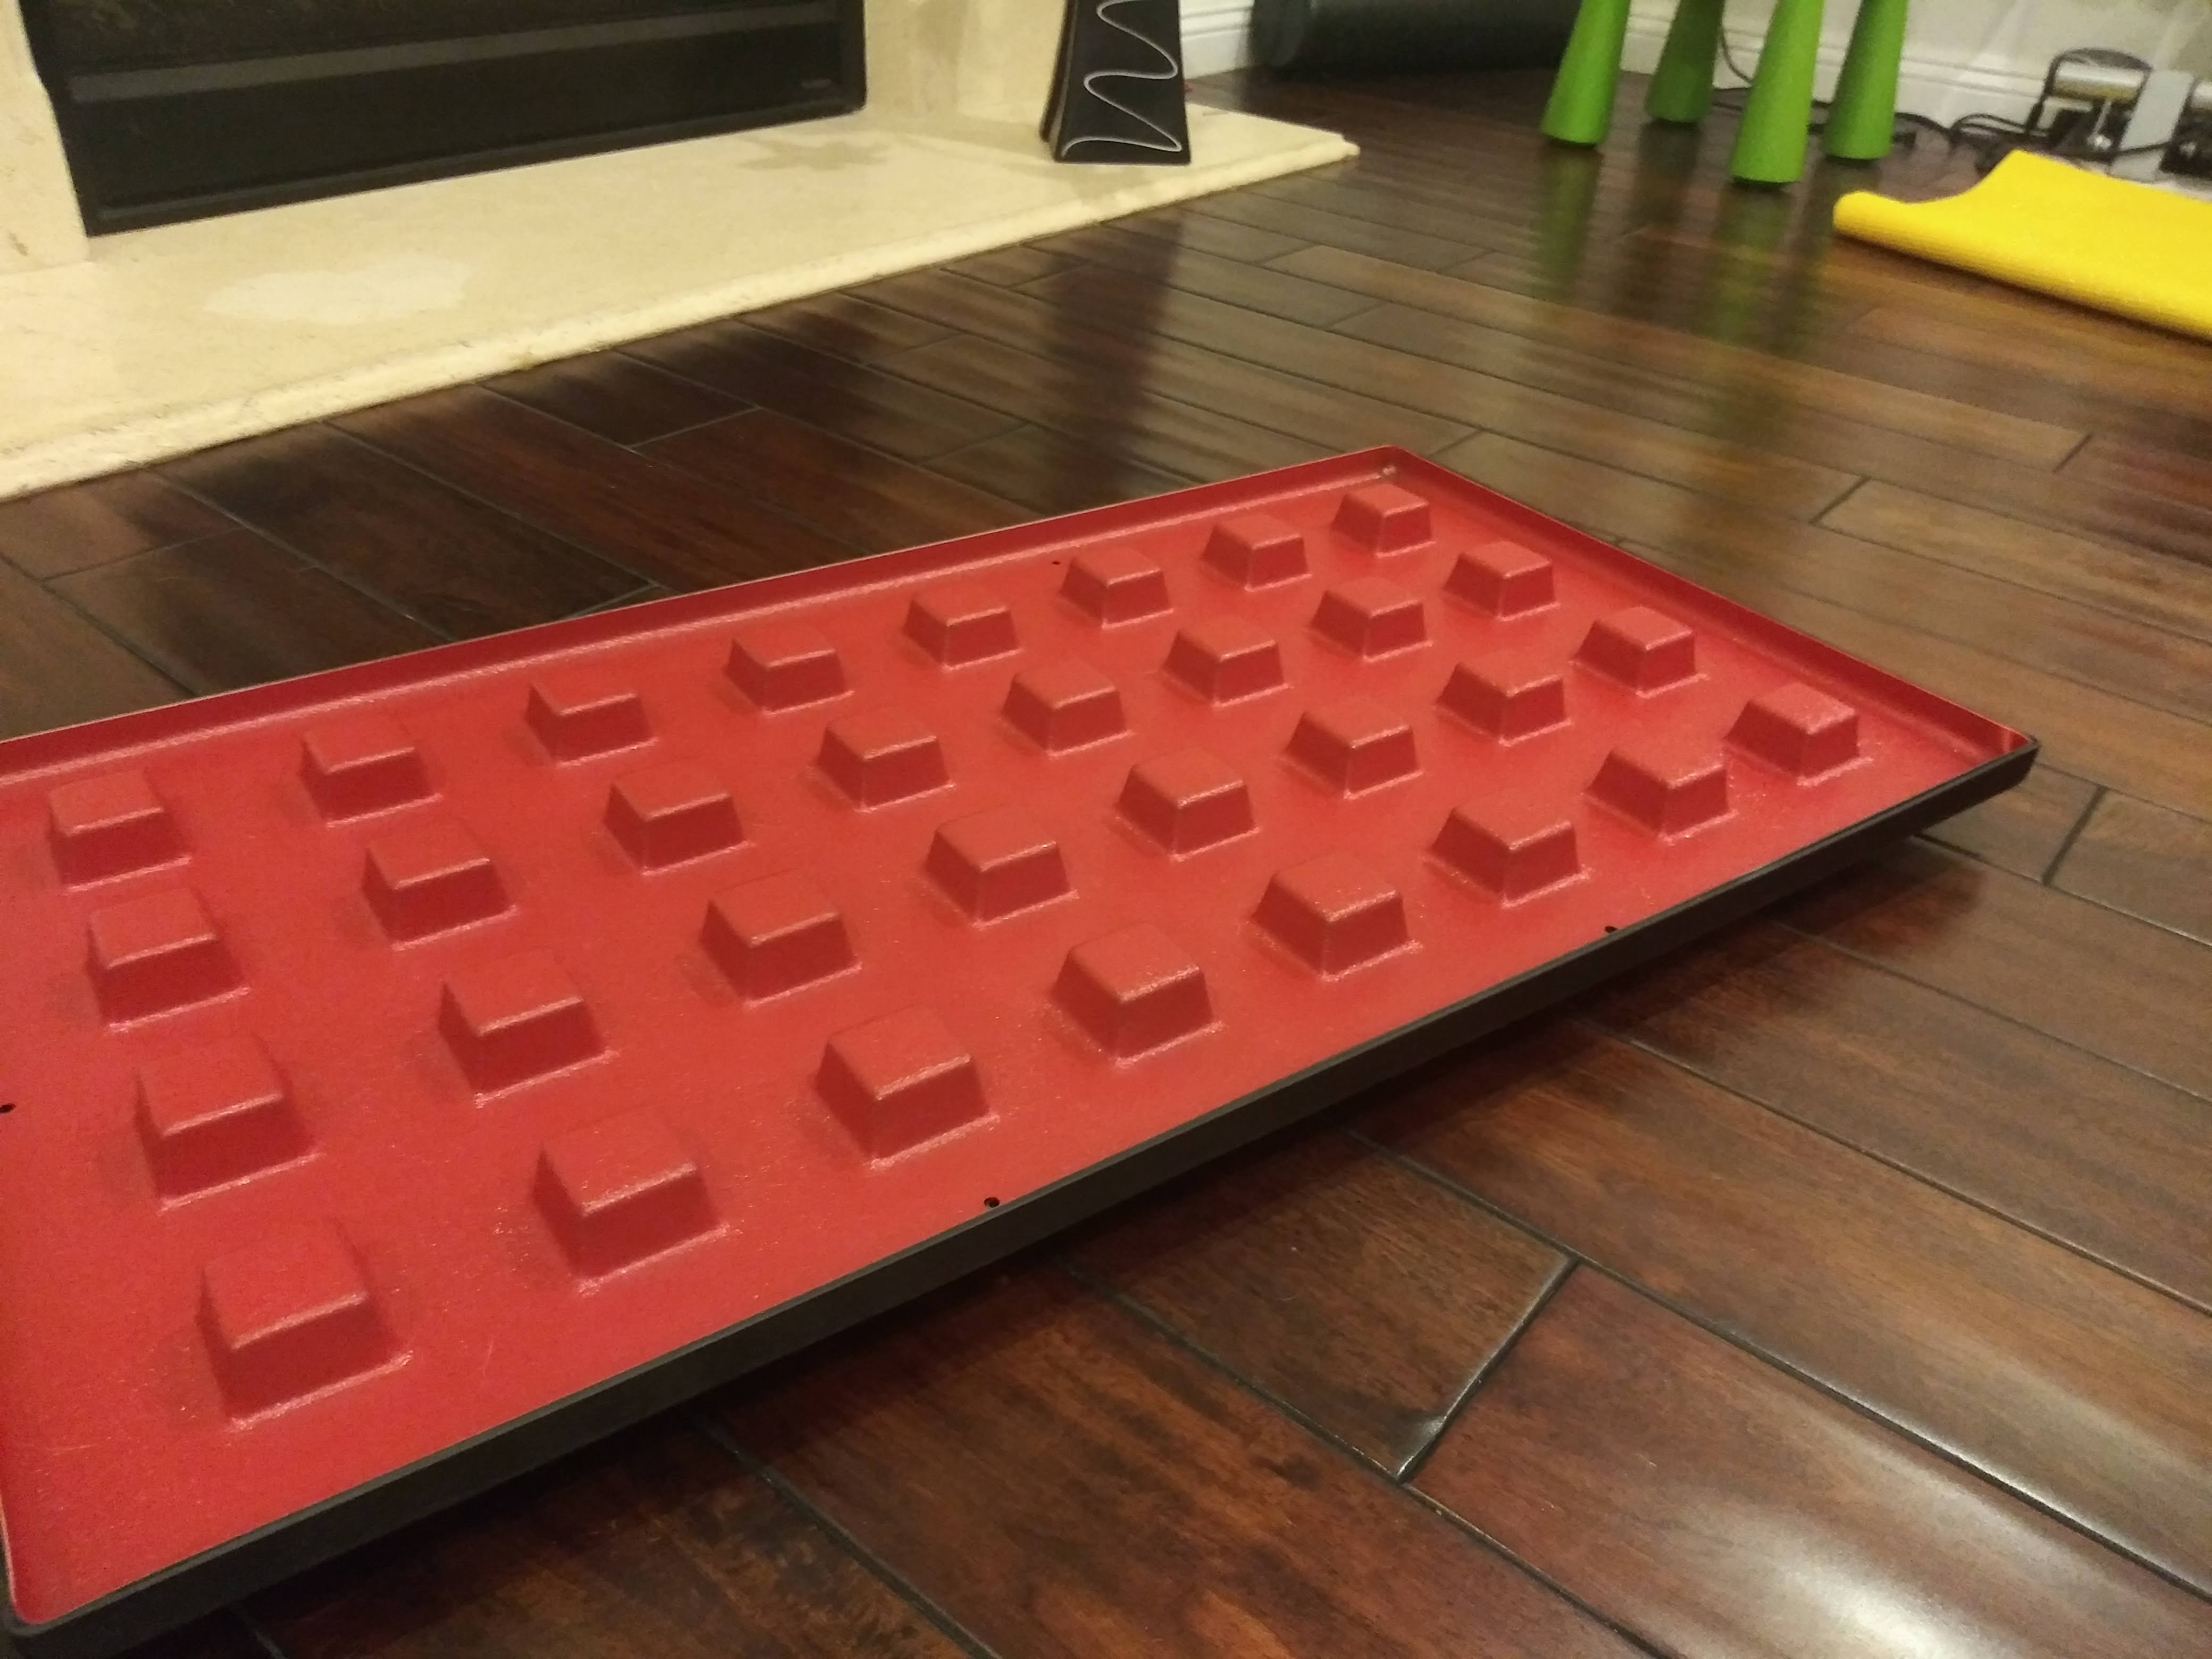red foundation: (57, 429, 2034, 1453)
